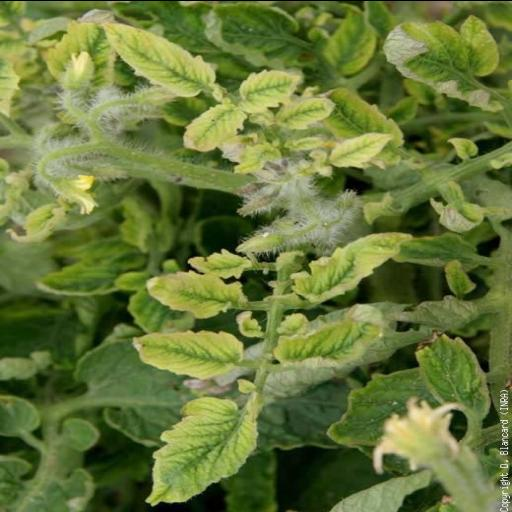disease_tomato: (144, 395, 262, 505), (382, 13, 508, 113), (102, 18, 224, 96), (289, 230, 413, 304), (272, 301, 387, 371), (416, 332, 493, 414), (126, 330, 248, 378), (144, 270, 236, 318), (182, 102, 251, 151), (328, 124, 396, 172), (238, 68, 306, 108)
